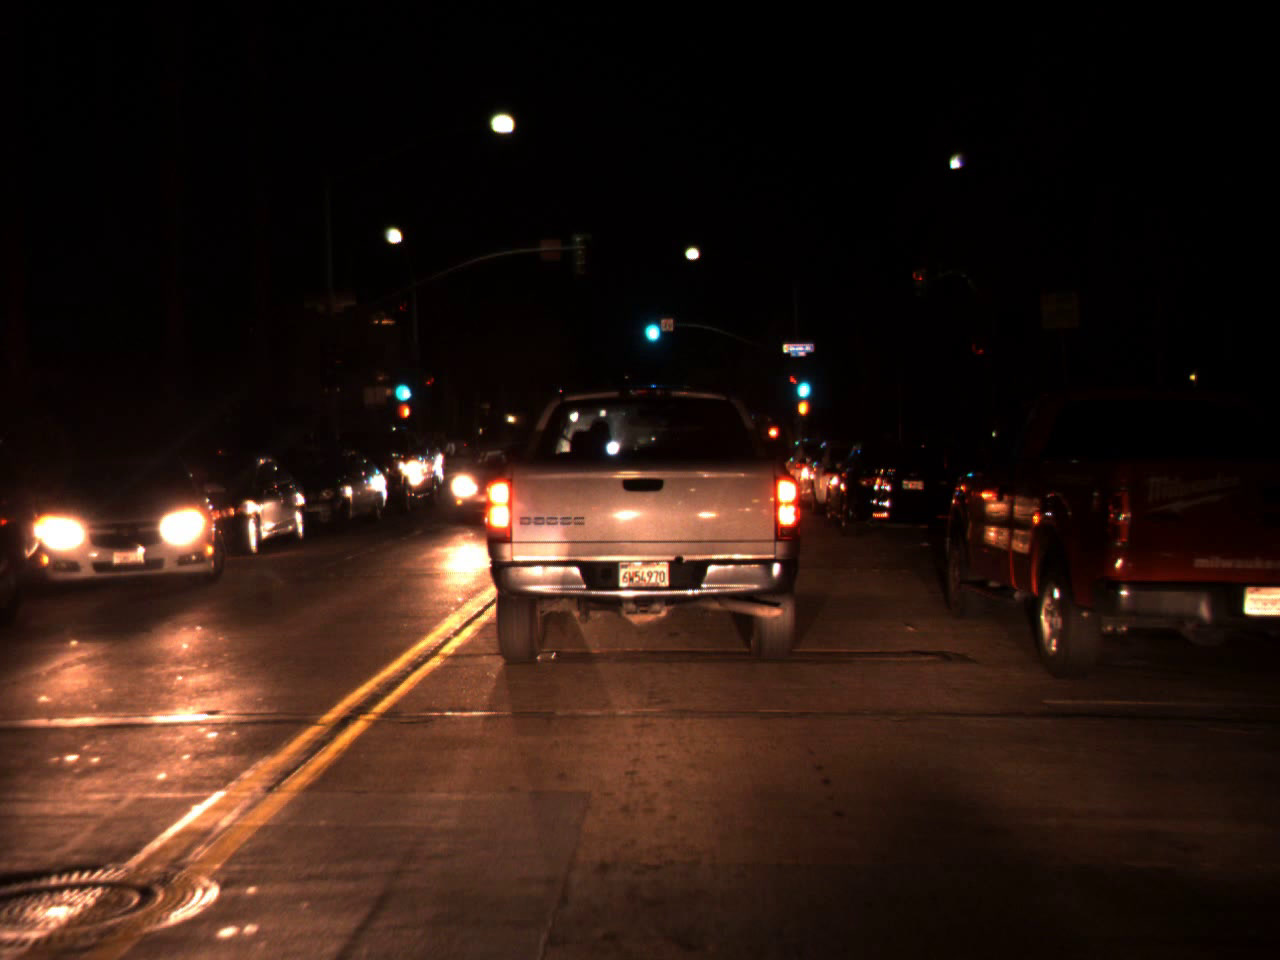go: (639, 302, 662, 347), (390, 365, 411, 407), (792, 362, 813, 404)
